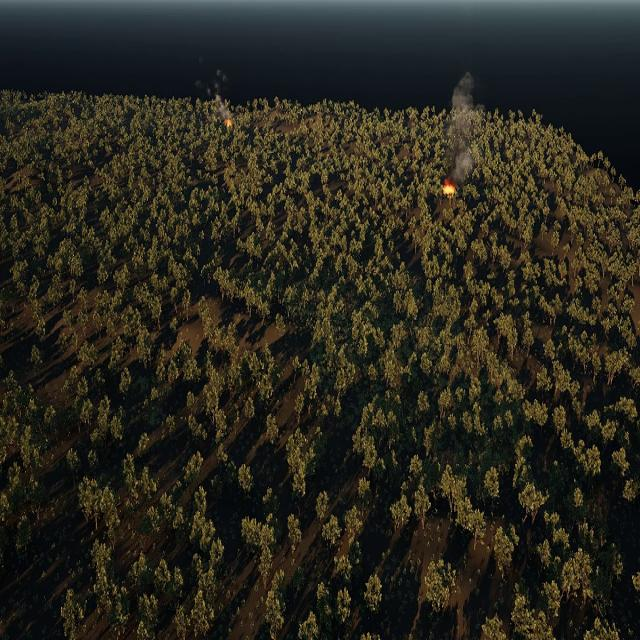fire: (443, 181, 456, 195), (225, 120, 231, 128)
smoke: (446, 71, 480, 186), (193, 52, 232, 126)
